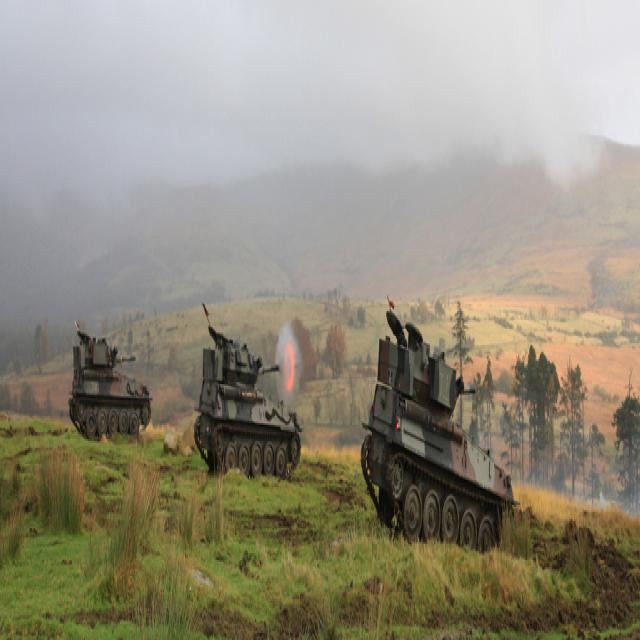tank: (360, 307, 521, 552), (193, 303, 302, 479), (68, 317, 154, 439)
